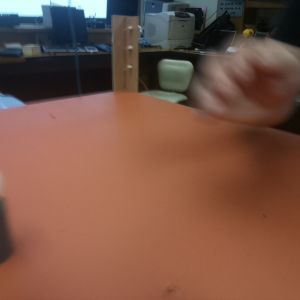corner: (112, 16, 135, 91)
